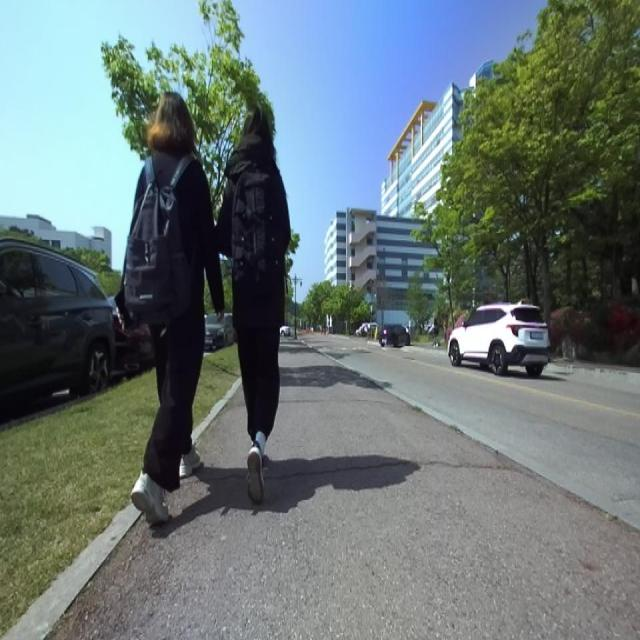sidewalk: (51, 342, 640, 639)
